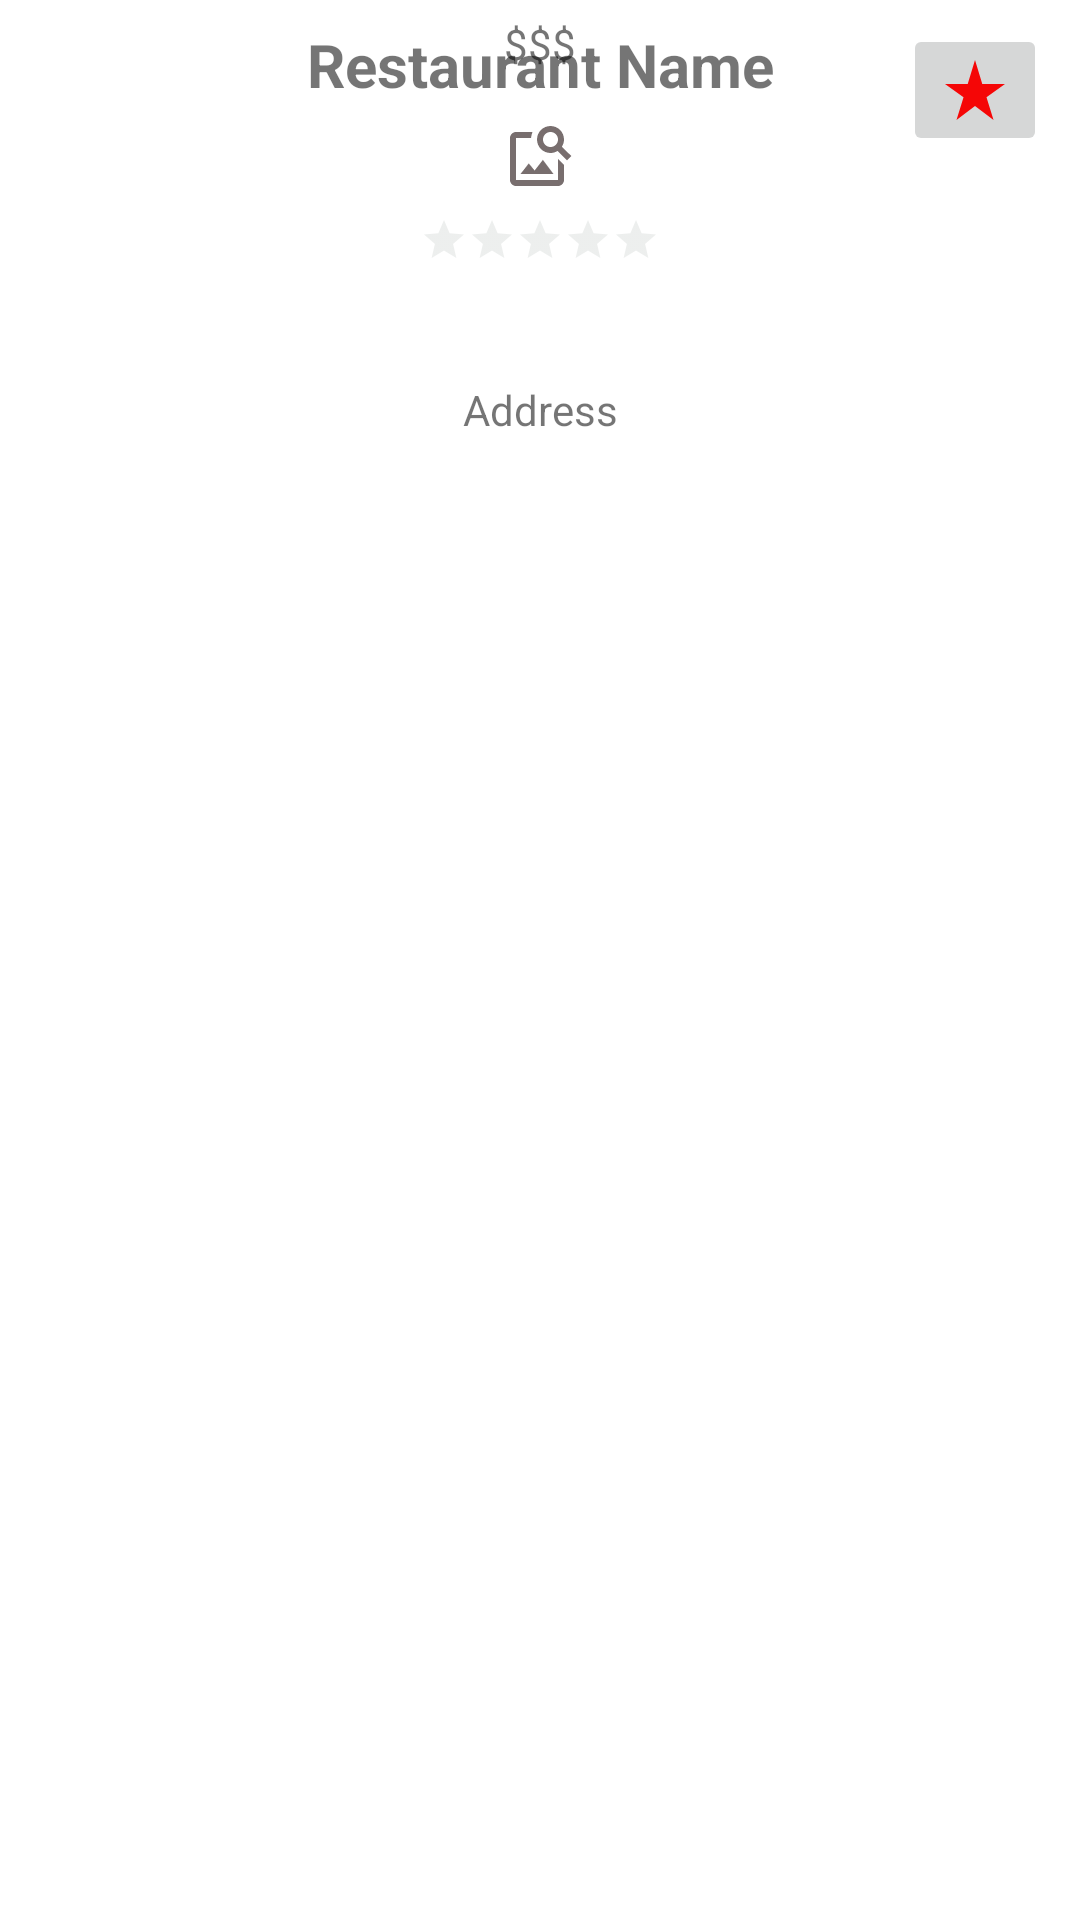

Where icons sit on this 1080w x 1920h app screen, as BBox(x1, y1, x2, y2):
Favorite Star: BBox(915, 42, 1035, 138)
